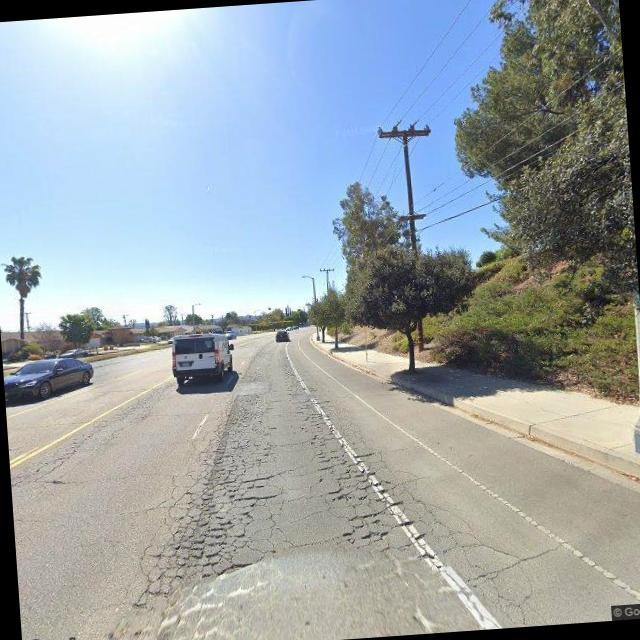crack: (118, 390, 530, 640), (6, 386, 166, 489)
